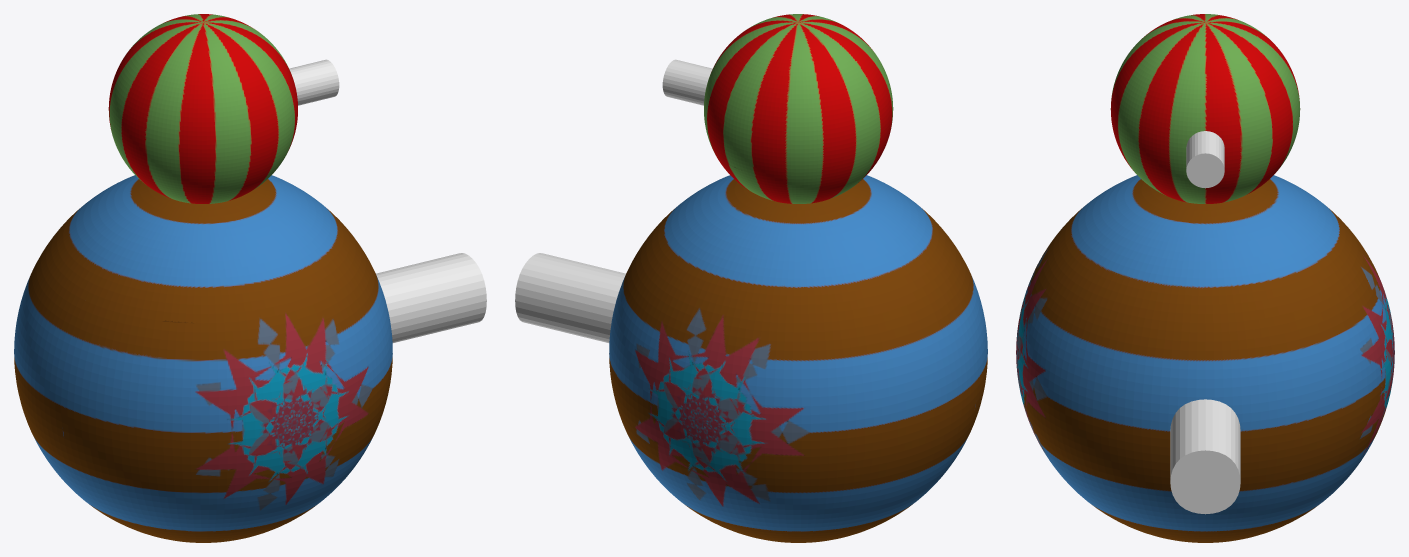
File: BOD0_BMC3_BCC8_BPT1_FRC15_HEA0_HMC4_HCC7_HPT2_ELT0_ERT1_ELL0_ERL0_AP2_AAL0_AAR1_BEK0.fbx
The picture shows the model from 3 angles, left to right: view 1: azimuth 30°, elevation 25°; view 2: azimuth 150°, elevation 25°; view 3: azimuth 270°, elevation 25°; orthographic projection.
Parts seen in each view (by area): view 1: Body, Arm, Ear; view 2: Body, Arm, Ear; view 3: Body, Arm, Ear.
Boxes of the visible parts, x1,y1,x2,y2 form: Body: (14, 14, 392, 542); Arm: (376, 253, 486, 342); Ear: (289, 59, 339, 105); Body: (609, 14, 987, 542); Arm: (515, 253, 625, 342); Ear: (662, 59, 712, 105); Body: (1016, 14, 1394, 542); Arm: (1170, 399, 1240, 514); Ear: (1186, 131, 1224, 188).
Size of the model in its own units: 64.68 by 72.41 by 49.36.
1 material, 1 textured.
